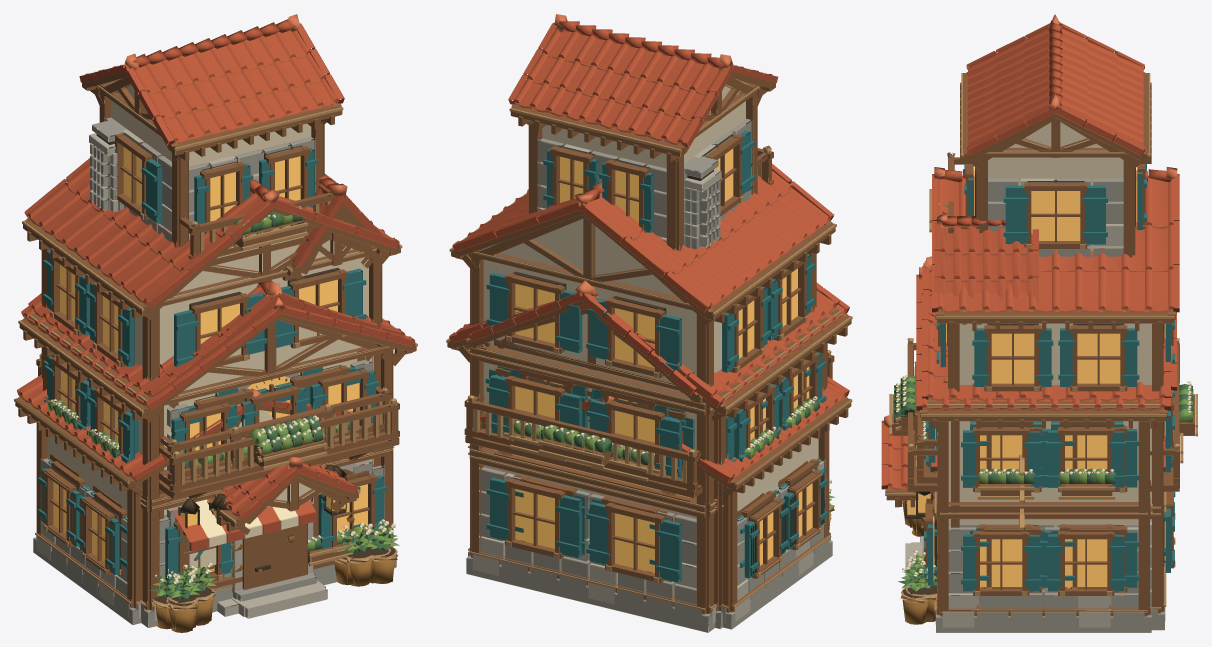
Rendered from alpine.glb.
3 views of the same model, side by side, from view 1: azimuth 30°, elevation 25°; view 2: azimuth 150°, elevation 25°; view 3: azimuth 270°, elevation 25° (orthographic). The views are drawn at different scales.
Visible parts, largest first — view 1: alpine_villa_3_geometry, alpine_hotel_2_geometry, alpine_villa_3_geometry ceramic, alpine_junction_hub_geometry, alpine_shop_2_geometry, alpine_hotel_2_geometry ceramic, alpine_tower_2_geometry, alpine_shop_2_geometry ceramic, alpine_junction_hub_geometry ceramic, alpine_tower_2_geometry ceramic; view 2: alpine_villa_3_geometry, alpine_villa_3_geometry ceramic, alpine_hotel_2_geometry, alpine_junction_hub_geometry, alpine_tower_2_geometry, alpine_shop_2_geometry ceramic, alpine_tower_2_geometry ceramic, alpine_shop_2_geometry, alpine_junction_hub_geometry ceramic, alpine_hotel_2_geometry ceramic; view 3: alpine_villa_3_geometry, alpine_hotel_2_geometry, alpine_villa_3_geometry ceramic, alpine_shop_2_geometry, alpine_hotel_2_geometry ceramic, alpine_shop_2_geometry ceramic, alpine_tower_2_geometry, alpine_tower_2_geometry ceramic.
Part boxes in pixels (x1,y1,x2,y2): alpine_villa_3_geometry: [22, 71, 402, 622]; alpine_hotel_2_geometry: [18, 310, 417, 632]; alpine_villa_3_geometry ceramic: [24, 14, 399, 307]; alpine_junction_hub_geometry: [14, 396, 361, 629]; alpine_shop_2_geometry: [25, 312, 405, 627]; alpine_hotel_2_geometry ceramic: [21, 296, 414, 520]; alpine_tower_2_geometry: [167, 343, 387, 625]; alpine_shop_2_geometry ceramic: [28, 284, 405, 551]; alpine_junction_hub_geometry ceramic: [17, 374, 361, 481]; alpine_tower_2_geometry ceramic: [165, 280, 362, 386]; alpine_villa_3_geometry: [449, 71, 836, 632]; alpine_villa_3_geometry ceramic: [452, 14, 833, 312]; alpine_hotel_2_geometry: [446, 309, 852, 629]; alpine_junction_hub_geometry: [481, 396, 852, 629]; alpine_tower_2_geometry: [466, 300, 702, 572]; alpine_shop_2_geometry ceramic: [456, 283, 839, 398]; alpine_tower_2_geometry ceramic: [468, 280, 697, 395]; alpine_shop_2_geometry: [466, 305, 841, 565]; alpine_junction_hub_geometry ceramic: [480, 377, 849, 483]; alpine_hotel_2_geometry ceramic: [449, 283, 849, 407]; alpine_villa_3_geometry: [898, 72, 1175, 630]; alpine_hotel_2_geometry: [885, 301, 1197, 632]; alpine_villa_3_geometry ceramic: [932, 14, 1179, 315]; alpine_shop_2_geometry: [902, 397, 1172, 622]; alpine_hotel_2_geometry ceramic: [881, 267, 1170, 492]; alpine_shop_2_geometry ceramic: [903, 260, 1170, 504]; alpine_tower_2_geometry: [895, 361, 1183, 591]; alpine_tower_2_geometry ceramic: [923, 256, 1176, 390].
Size of the model in its own units: 1.04 by 1.76 by 0.98.
